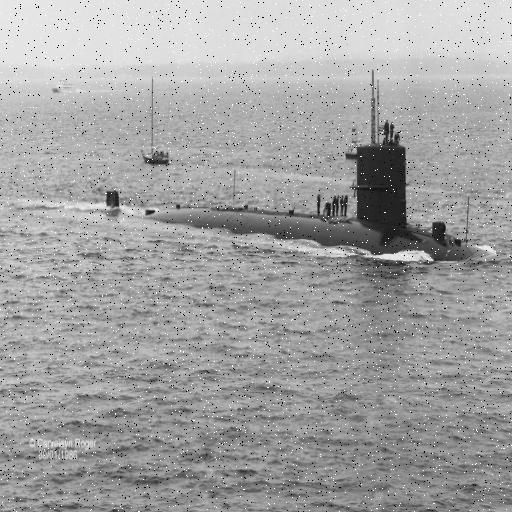submarine: (106, 77, 493, 262)
